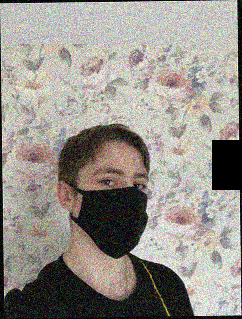with_mask: (76, 157, 152, 260)
